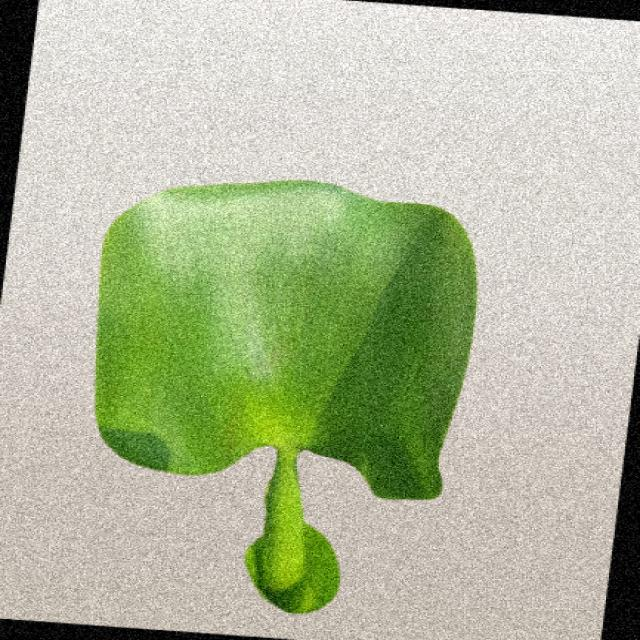daun sehat: (97, 181, 476, 613)
